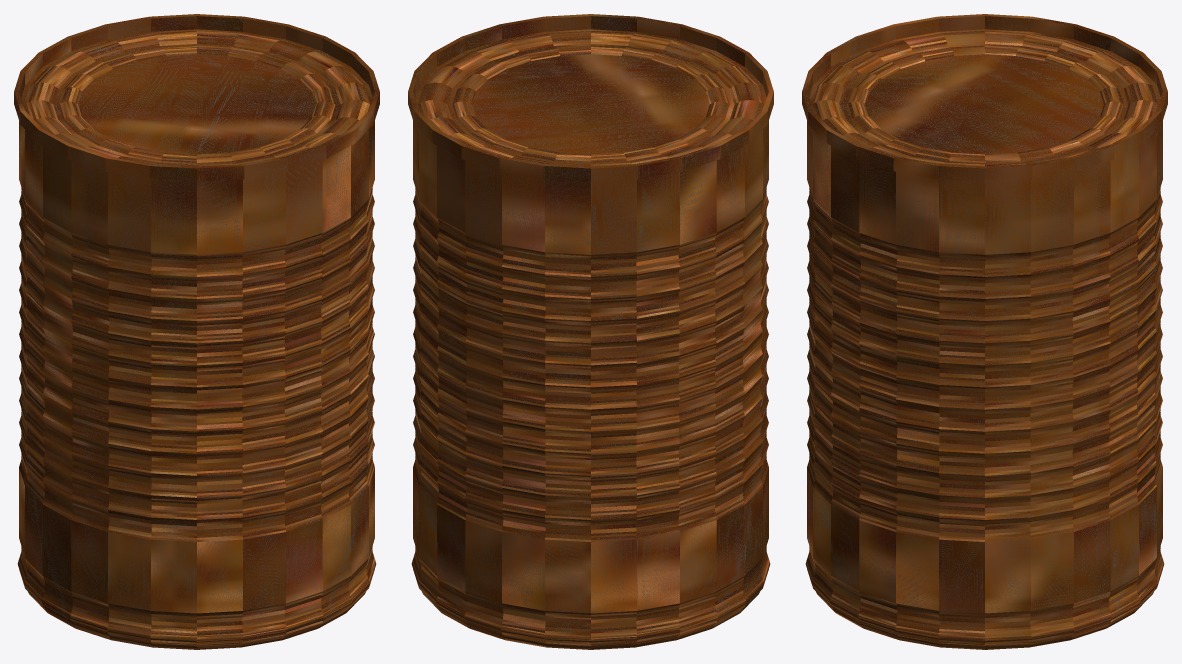
The picture shows the model from 3 angles, left to right: view 1: azimuth 30°, elevation 25°; view 2: azimuth 150°, elevation 25°; view 3: azimuth 270°, elevation 25°; orthographic projection.
Parts seen in each view (by area): view 1: mesh1_mesh1-geometry; view 2: mesh1_mesh1-geometry; view 3: mesh1_mesh1-geometry.
Boxes of the visible parts, left/top/right/bottom form: mesh1_mesh1-geometry: left=14, top=14, right=379, bottom=649; mesh1_mesh1-geometry: left=408, top=14, right=773, bottom=649; mesh1_mesh1-geometry: left=802, top=14, right=1167, bottom=649.
Bounding box in the file's own units: 0.4907 × 0.72 × 0.4907.
